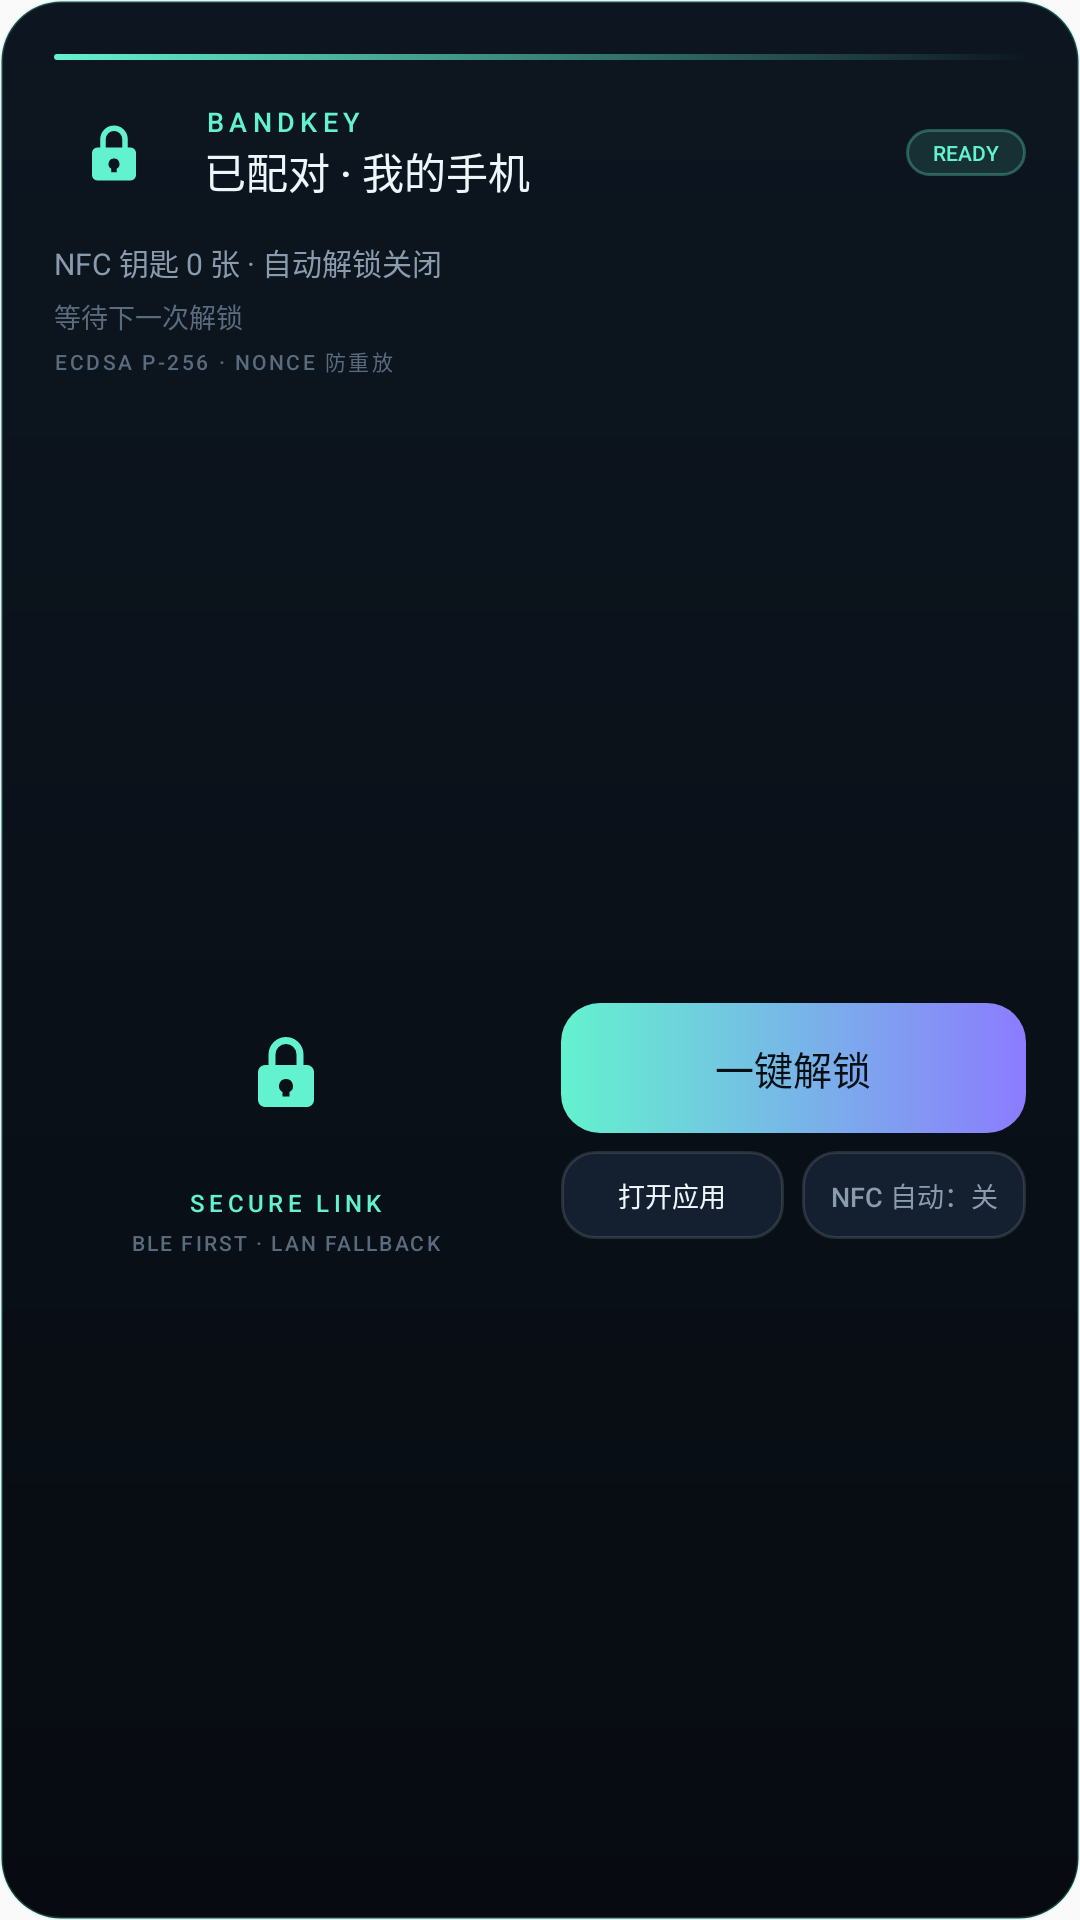

Screen size 1080 x 1920. Icon name, then its box in pixels as (x1, y1, x2, y2):
widget lock: (92, 125, 136, 181), (258, 1037, 314, 1107)
